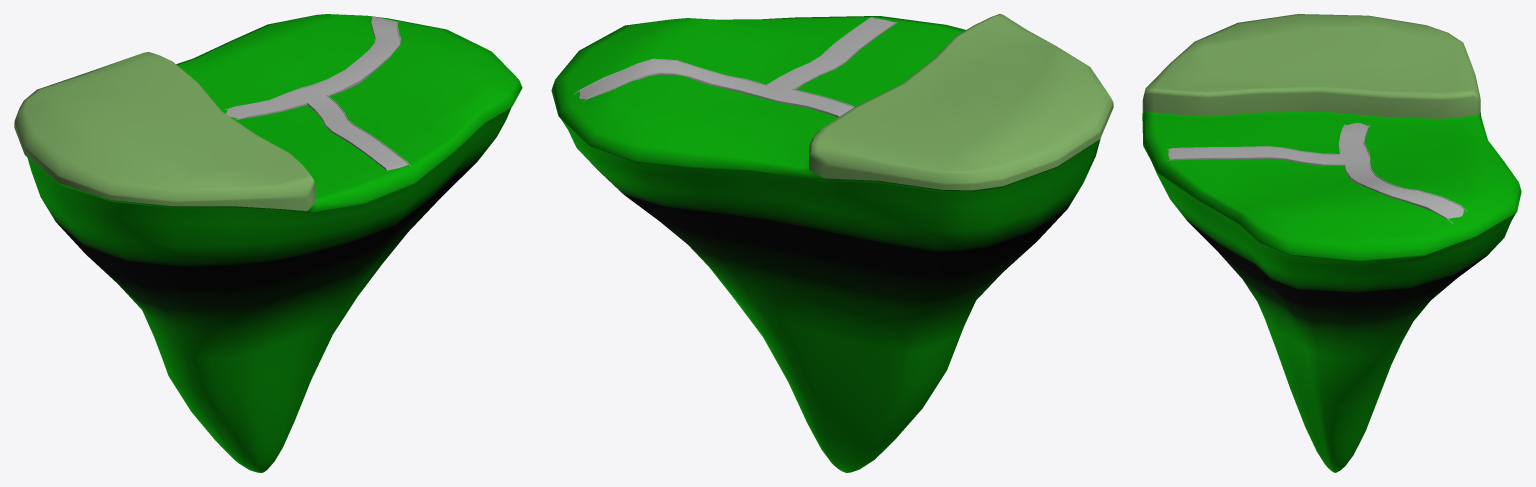
The model's file is Main island.fbx.
3 renders of one model, left to right at view 1: azimuth 30°, elevation 25°; view 2: azimuth 150°, elevation 25°; view 3: azimuth 270°, elevation 25°, orthographic. The views are drawn at different scales.
Parts seen in each view (by area): view 1: polySurface66, polySurface67, pasted__polySurface64; view 2: polySurface66, polySurface67, pasted__polySurface64; view 3: polySurface66, polySurface67, pasted__polySurface64.
Boxes of the visible parts, box(x1,y1,x2,y2) form: polySurface66: box(25, 14, 522, 472); polySurface67: box(14, 52, 314, 210); pasted__polySurface64: box(224, 16, 410, 170); polySurface66: box(551, 16, 1100, 472); polySurface67: box(809, 14, 1113, 190); pasted__polySurface64: box(573, 17, 897, 117); polySurface66: box(1142, 111, 1521, 472); polySurface67: box(1142, 14, 1480, 118); pasted__polySurface64: box(1167, 123, 1467, 223).
Bounding box in the file's own units: 146 × 115 × 107.
